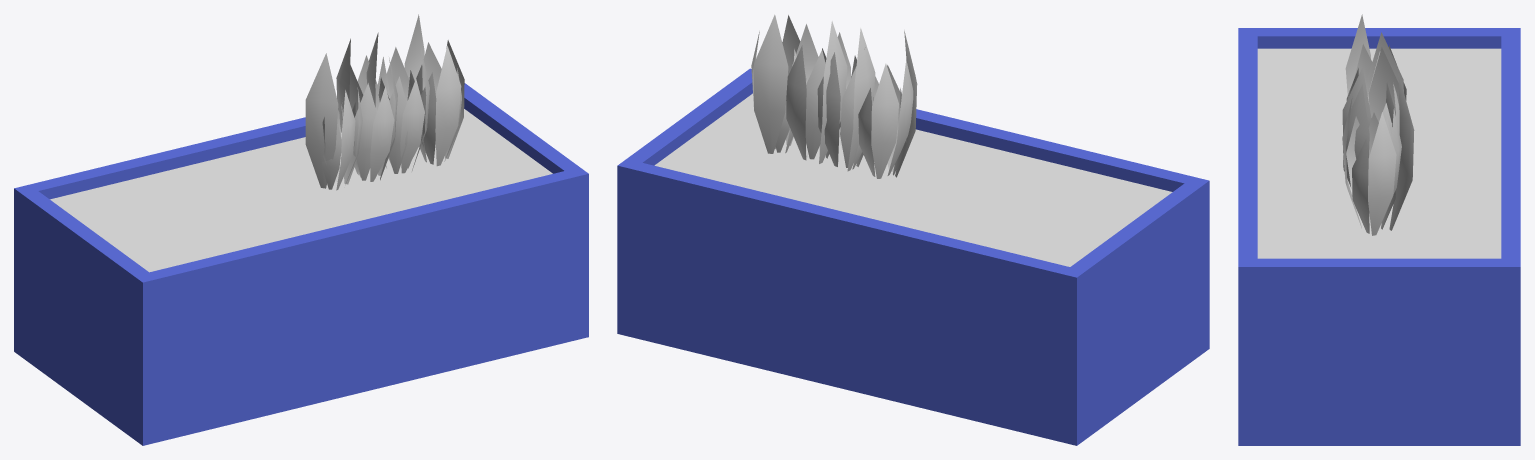
The model's file is model_vase_floor_02.fbx.
3 renders of one model, left to right at view 1: azimuth 30°, elevation 25°; view 2: azimuth 150°, elevation 25°; view 3: azimuth 270°, elevation 25°, orthographic. The views are drawn at different scales.
Parts seen in each view (by area): view 1: Cube.019, Plane.046; view 2: Cube.019, Plane.046; view 3: Cube.019, Plane.046.
Boxes of the visible parts, bbox=[...] form: Cube.019: bbox=[14, 83, 588, 445]; Plane.046: bbox=[305, 14, 464, 190]; Cube.019: bbox=[617, 68, 1209, 445]; Plane.046: bbox=[751, 14, 917, 178]; Cube.019: bbox=[1238, 28, 1520, 445]; Plane.046: bbox=[1342, 14, 1414, 235].
Size of the model in its own units: 200 by 126 by 100.
